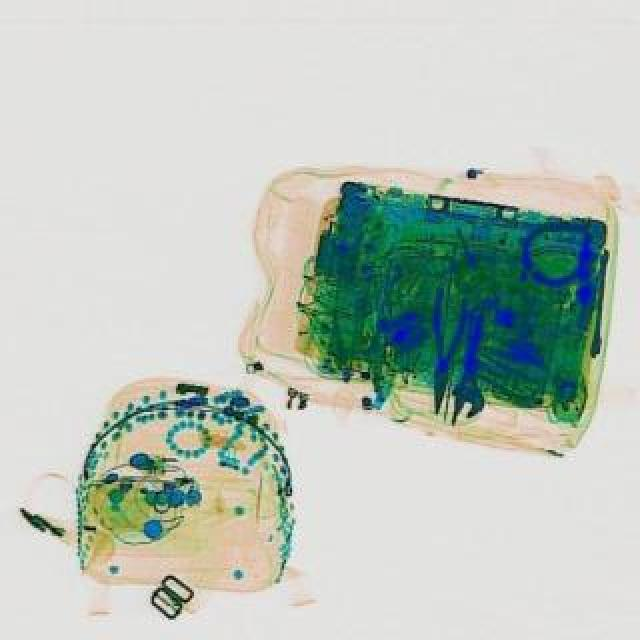scissors: (452, 298, 500, 420), (590, 244, 614, 356)
wrench: (420, 286, 474, 416)
